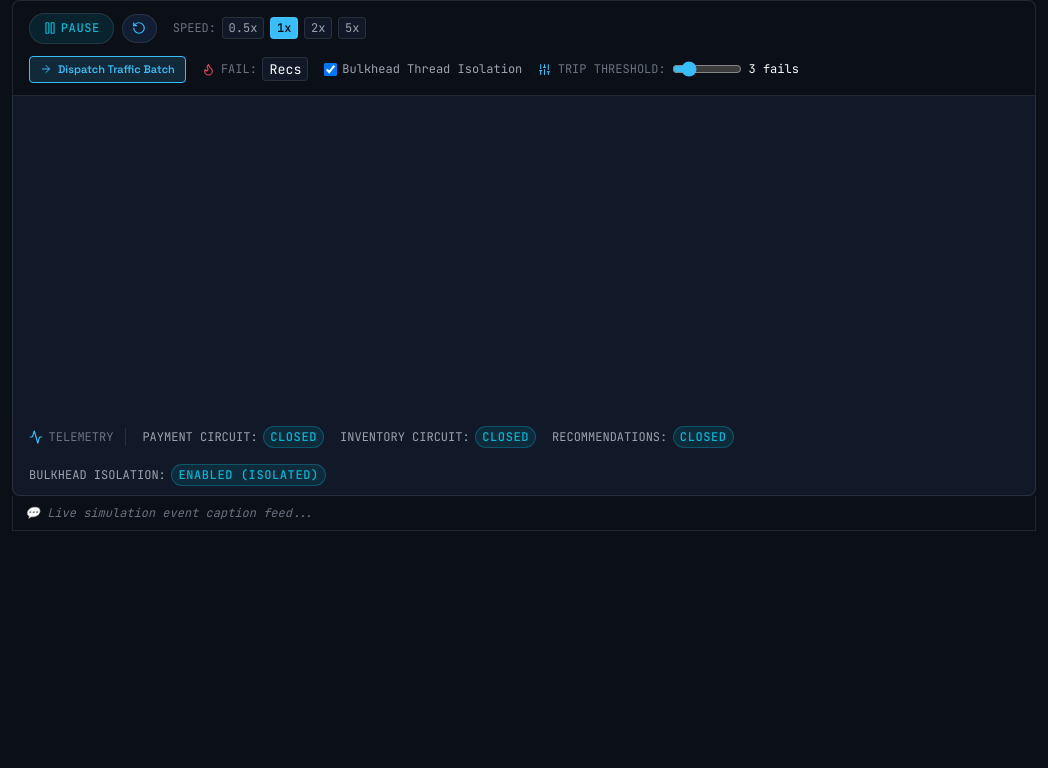
Test: CircuitBreakerVisualizer (Catalog Viz #11) › toggles Bulkhead isolation state
Click the checkbox labelled "Bulkhead Thread Isolation" at (331, 69), box [324, 63, 338, 76]
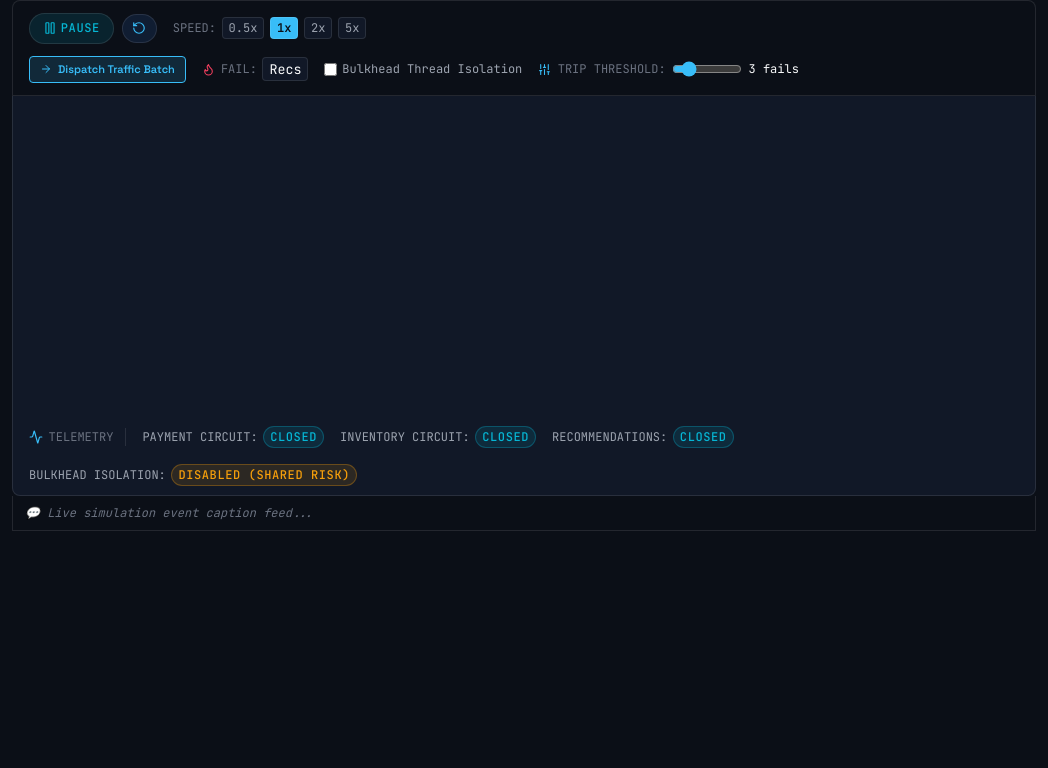
Expected: the text "DISABLED (SHARED RISK)" is shown, [171, 464, 357, 486]
